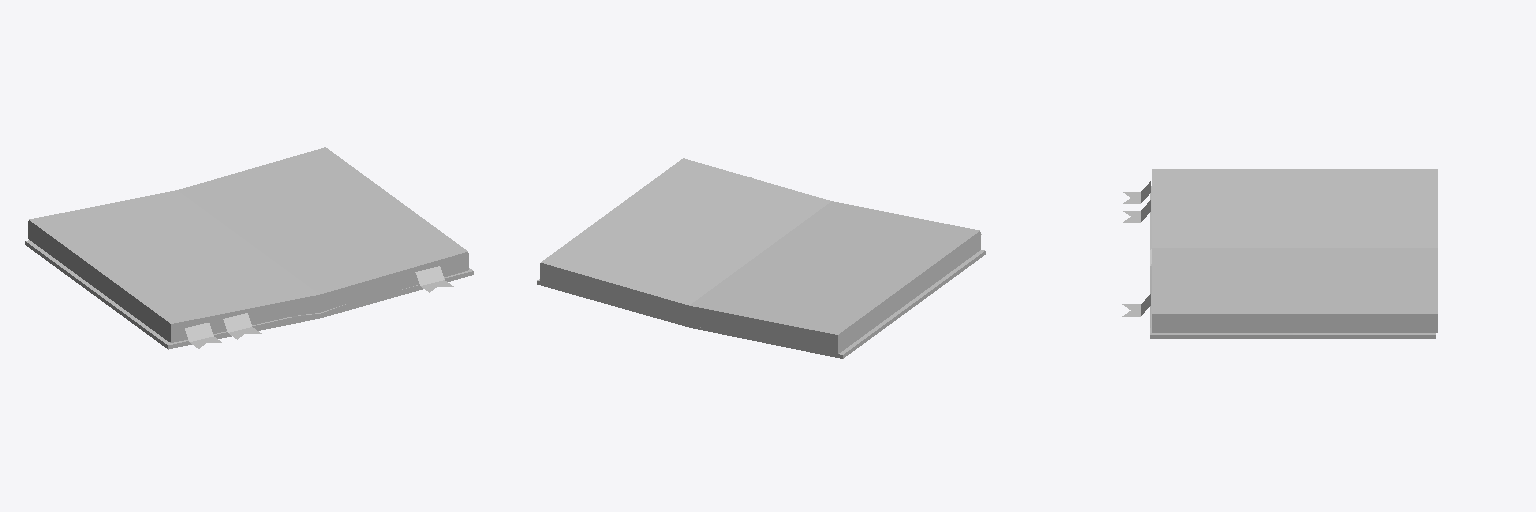
Rendered from book decoration paused.obj.
The picture shows the model from 3 angles: view 1: azimuth 30°, elevation 25°; view 2: azimuth 150°, elevation 25°; view 3: azimuth 270°, elevation 25°; orthographic projection.
Visible parts, largest first — view 1: Cube.000, Cube.001b, Cube.001, Cube.001a; view 2: Cube.000; view 3: Cube.000.
Part boxes in pixels (left/top/right/bottom): Cube.000: left=25, top=147, right=473, bottom=349; Cube.001b: left=223, top=313, right=261, bottom=339; Cube.001: left=415, top=266, right=453, bottom=292; Cube.001a: left=185, top=323, right=221, bottom=348; Cube.000: left=537, top=158, right=985, bottom=358; Cube.000: left=1150, top=169, right=1437, bottom=338.
Size of the model in its own units: 12.36 by 1.15 by 11.05.